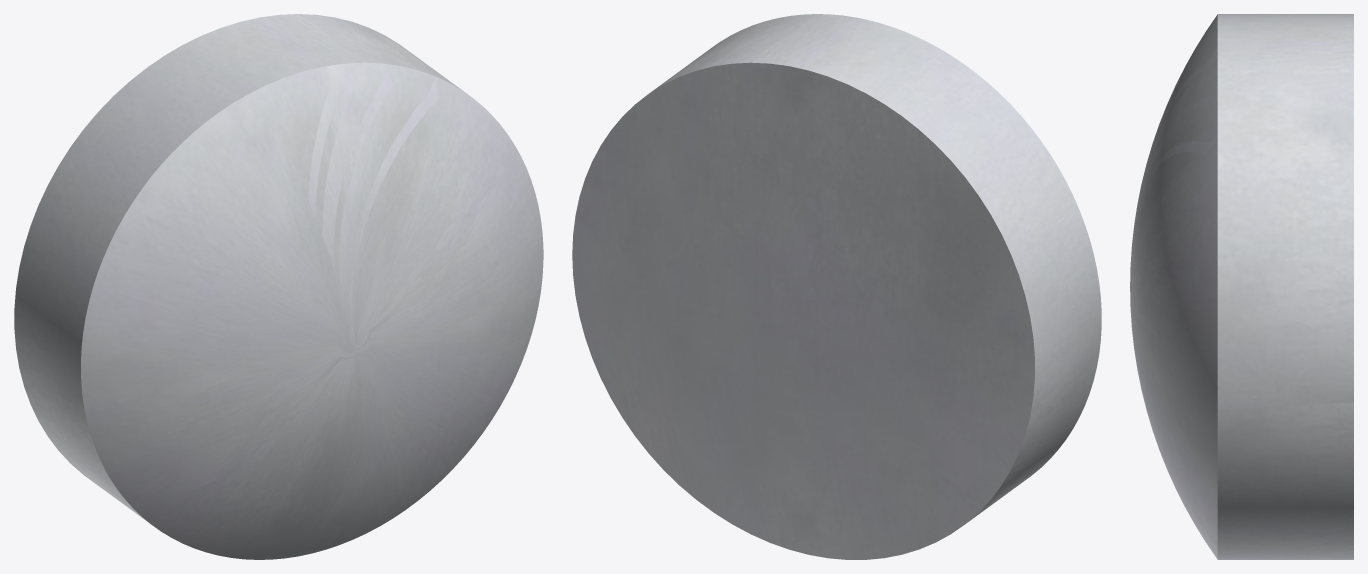
The model's file is Template_LA1116-A.glb.
3 views of the same model, side by side, from view 1: azimuth 30°, elevation 25°; view 2: azimuth 150°, elevation 25°; view 3: azimuth 270°, elevation 25° (orthographic). The views are drawn at different scales.
Parts seen in each view (by area): view 1: texture; view 2: texture; view 3: texture.
Boxes of the visible parts, x1,y1,x2,y2 form: texture: (14, 14, 543, 559); texture: (572, 14, 1101, 559); texture: (1130, 14, 1353, 559).
Bounding box in the file's own units: 0.006 × 0.006 × 0.00246.
1 material, 1 textured.
